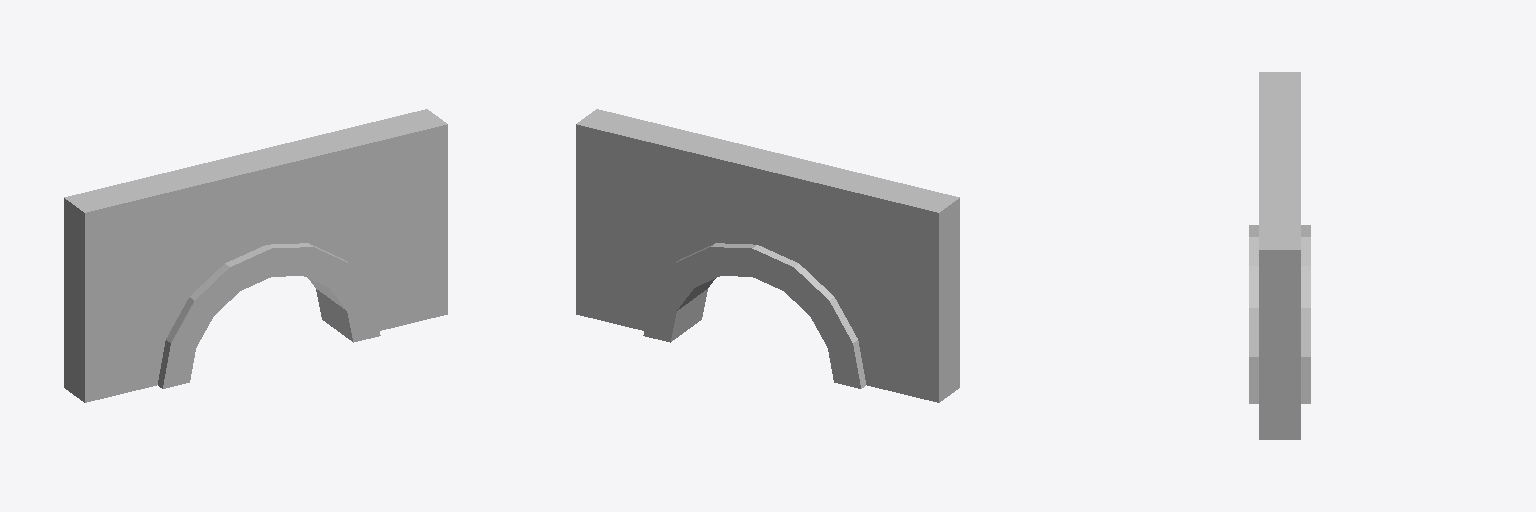
File: 3_entrance_top.obj
The picture shows the model from 3 angles: view 1: azimuth 30°, elevation 25°; view 2: azimuth 150°, elevation 25°; view 3: azimuth 270°, elevation 25°; orthographic projection.
Visible parts, largest first — view 1: object1; view 2: object1; view 3: object1.
Part boxes in pixels (x1,y1,x2,y2): object1: (64, 109, 447, 402); object1: (576, 109, 959, 402); object1: (1249, 72, 1310, 439).
Bounding box in the file's own units: 2 × 1 × 0.3.